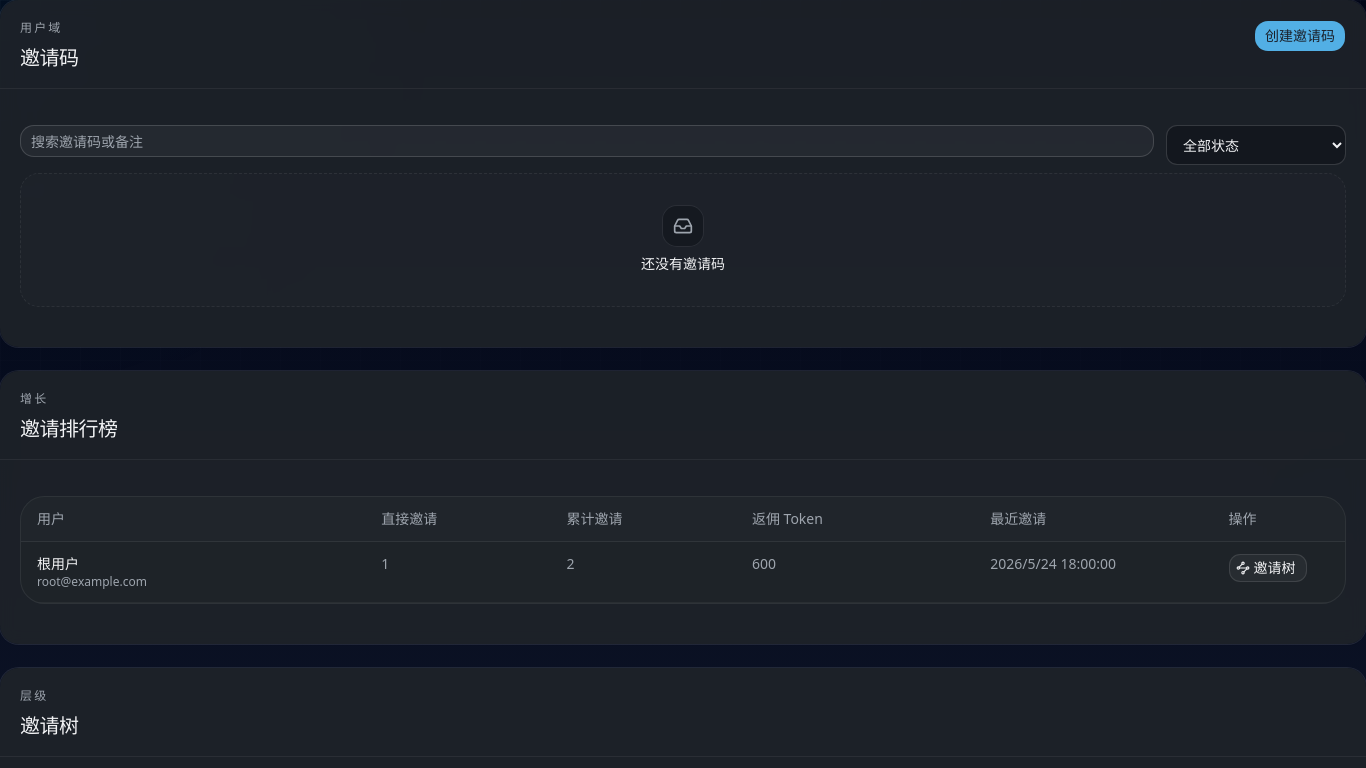
Test case: InvitationCodesPage › opens invitation tree from leaderboard row
This screenshot has width=1366, height=768.
Expected: the text "根用户" is shown, left=37, top=554, right=79, bottom=573
What coordinates should you click on to do the following:
click the button "邀请树"
I would click on:
 (1268, 568)
Its box is left=1229, top=554, right=1307, bottom=582.
(page scrolled)
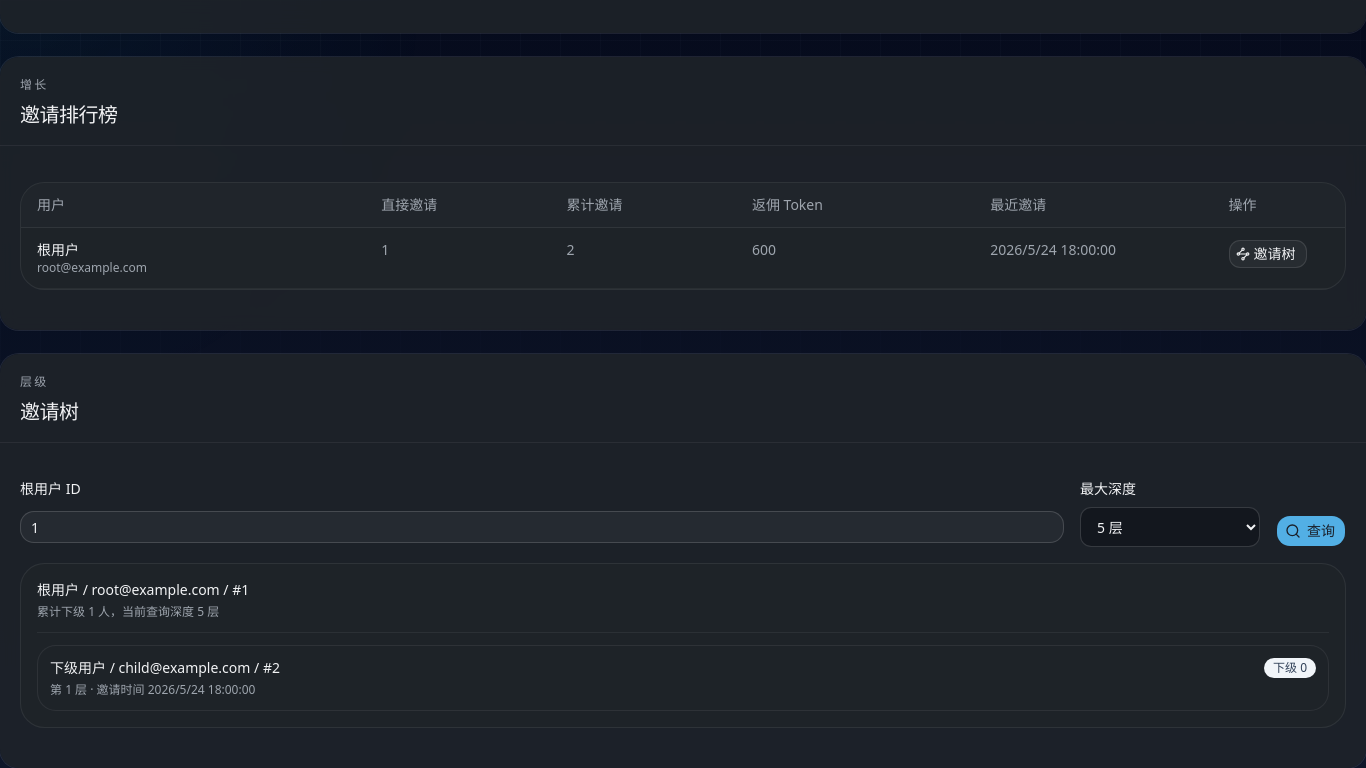
Expected: the text "下级用户 / child@example.com / #2" is shown, left=50, top=658, right=280, bottom=678
